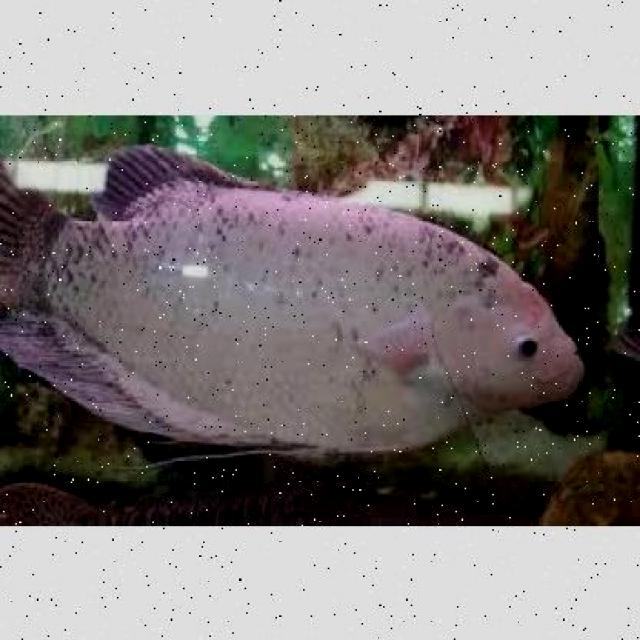gurame: (1, 143, 586, 448)
